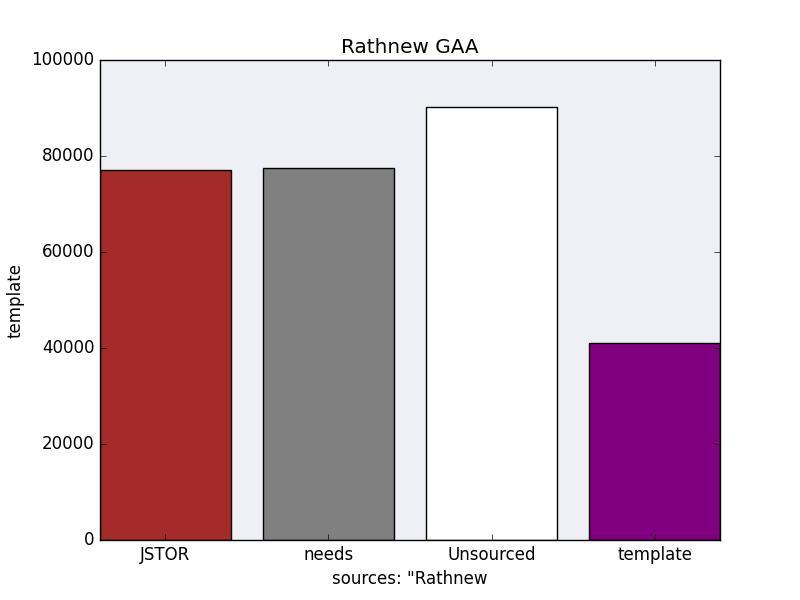axis: (8, 52, 94, 548)
rectangle: (426, 107, 557, 540), (263, 168, 394, 540), (100, 170, 231, 540), (589, 343, 720, 540)
